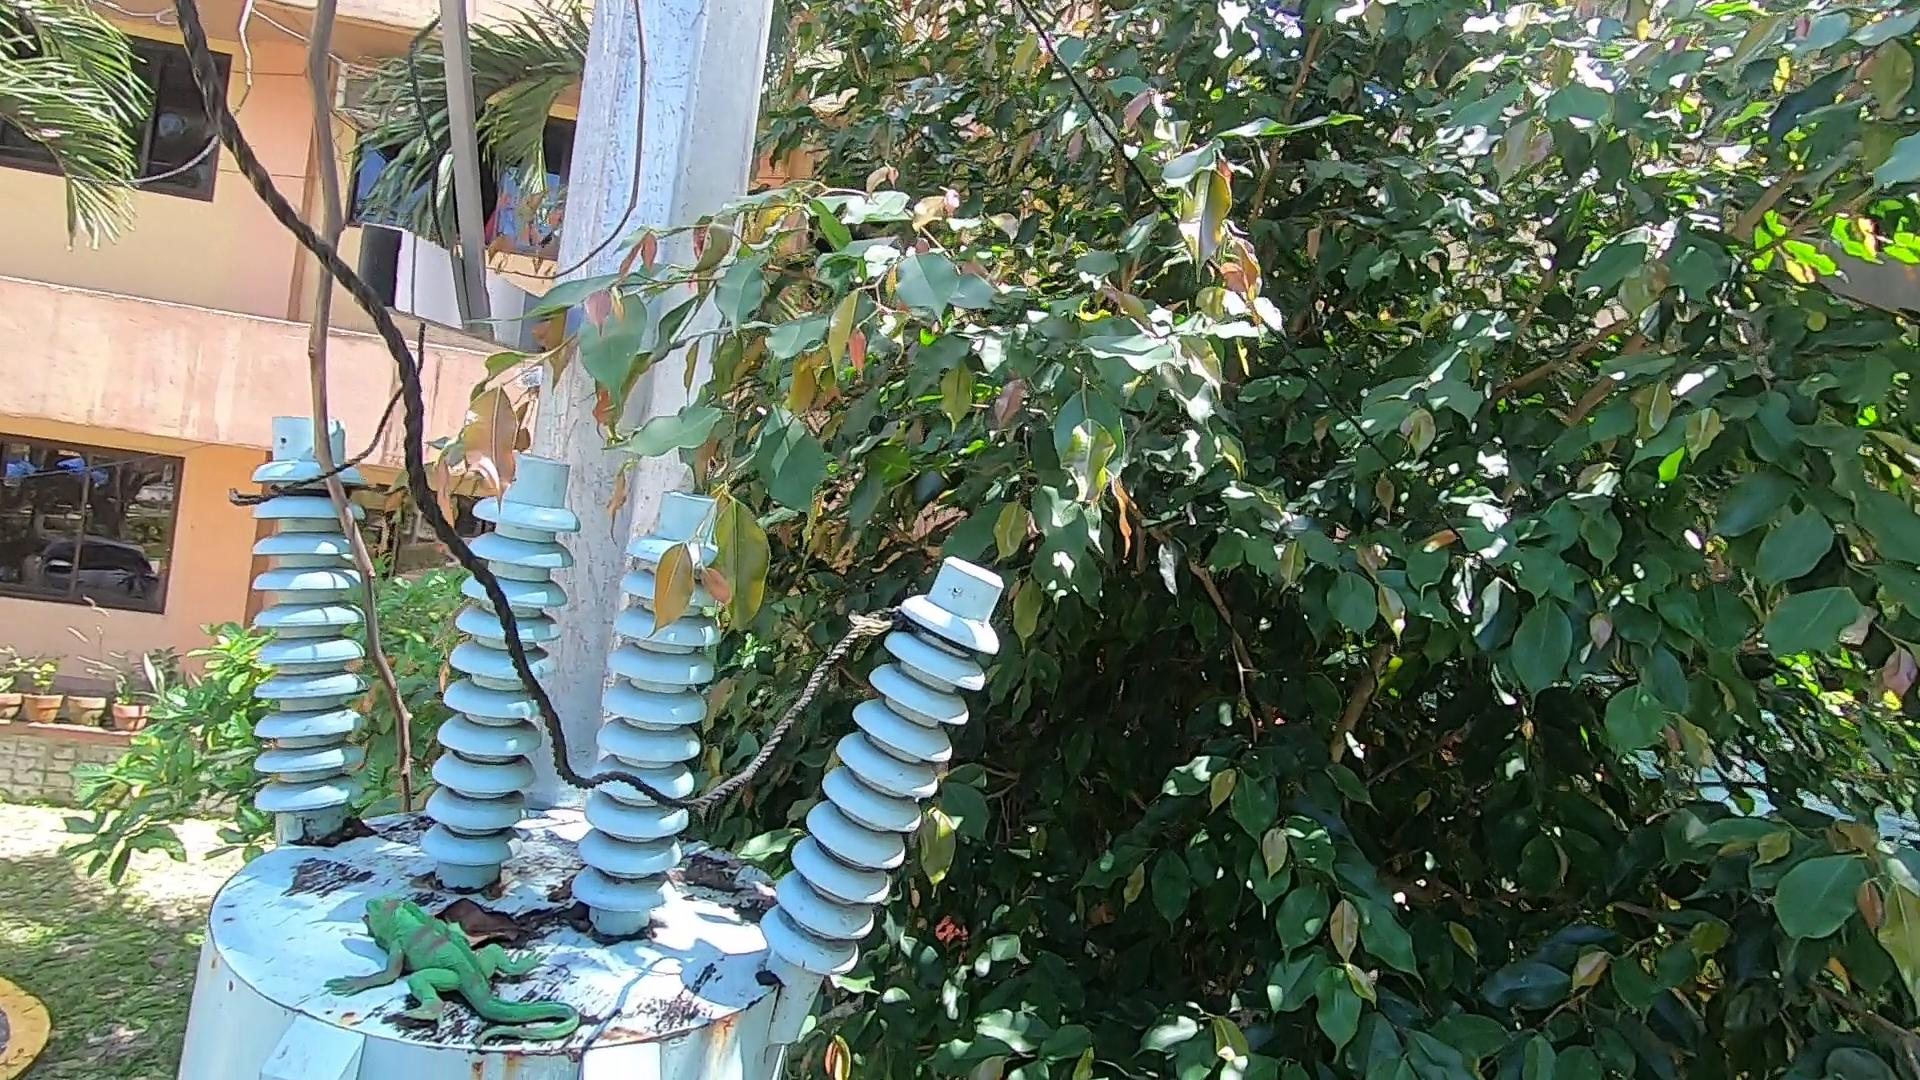branch with leaves: (415, 302, 825, 630)
leaf: (436, 885, 603, 943), (683, 848, 769, 923), (305, 819, 385, 858)
tree branch: (262, 5, 469, 819)
